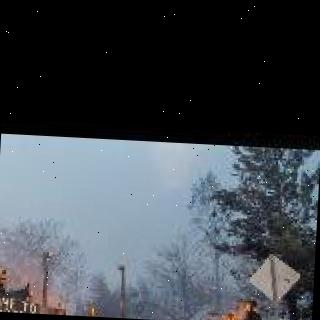fire: (193, 298, 254, 320), (14, 310, 88, 316)
